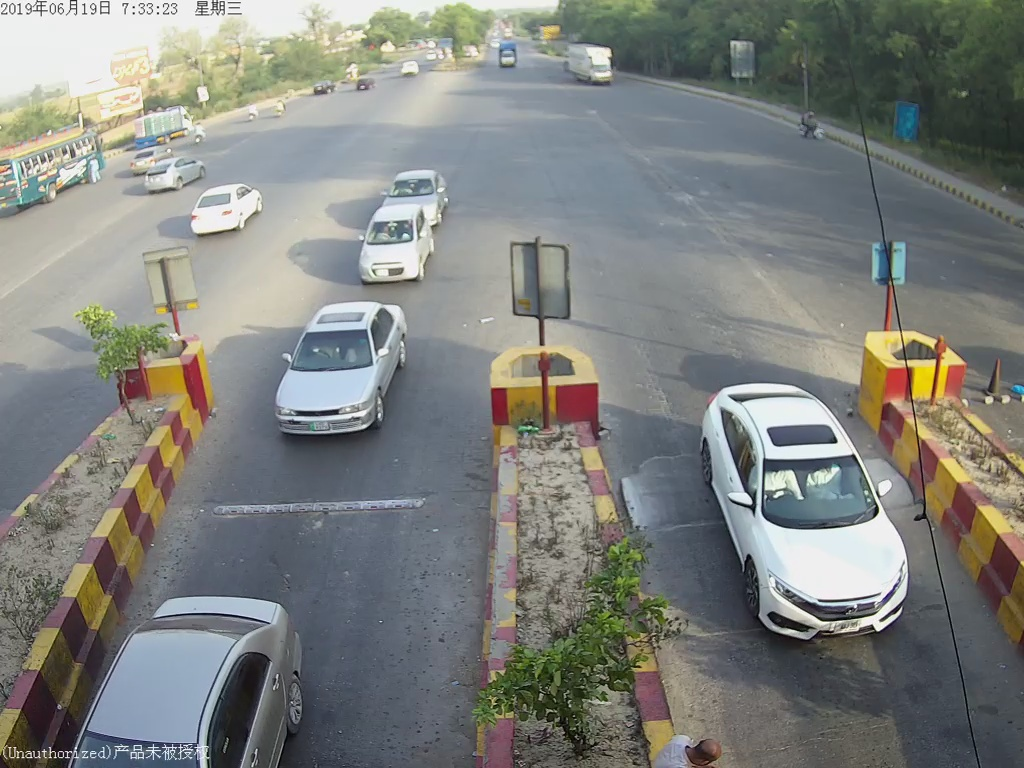Cat-1: (258, 308, 422, 442), (351, 212, 437, 290)
